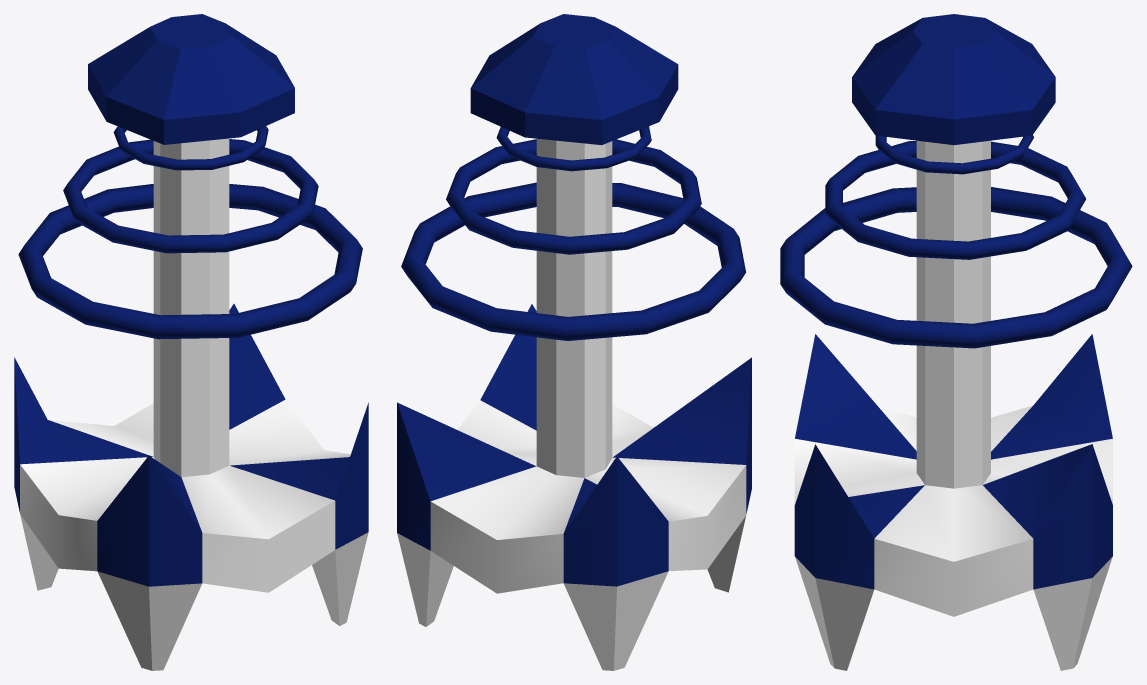
File: TeslaTower.fbx
The picture shows the model from 3 angles, left to right: view 1: azimuth 30°, elevation 25°; view 2: azimuth 150°, elevation 25°; view 3: azimuth 270°, elevation 25°; orthographic projection. The views are drawn at different scales.
Parts seen in each view (by area): view 1: Box001, Torus001, Torus002, Torus003; view 2: Box001, Torus001, Torus002, Torus003; view 3: Box001, Torus001, Torus002, Torus003.
Boxes of the visible parts, x1,y1,x2,y2 form: Box001: (14, 14, 368, 670); Torus001: (18, 184, 362, 339); Torus002: (63, 139, 318, 253); Torus003: (113, 126, 268, 170); Box001: (397, 14, 751, 670); Torus001: (401, 182, 745, 340); Torus002: (446, 139, 701, 254); Torus003: (496, 126, 651, 171); Box001: (794, 14, 1112, 670); Torus001: (780, 187, 1132, 348); Torus002: (825, 140, 1085, 259); Torus003: (875, 135, 1033, 174).
Size of the model in its own units: 41.91 by 76.87 by 41.6.
